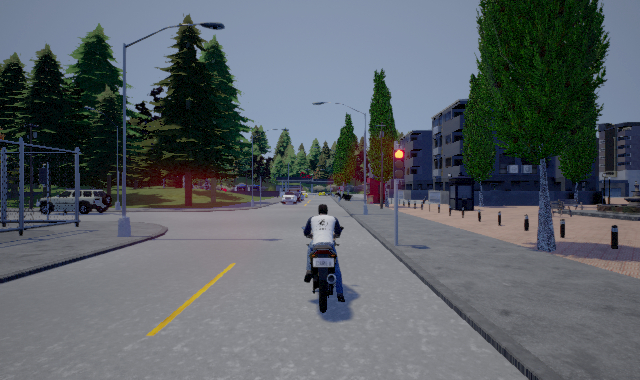motobike: (302, 204, 345, 314)
traffic_light: (393, 148, 406, 179)
vehicle: (38, 188, 112, 214), (281, 190, 308, 204)
